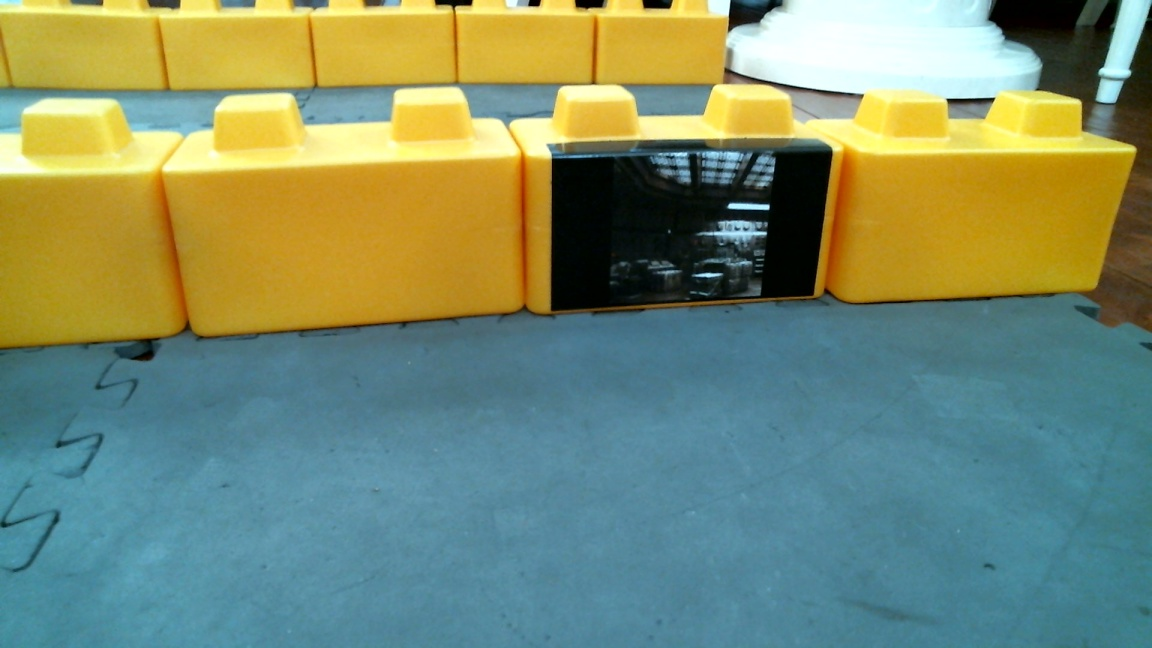skystone: (527, 76, 837, 325)
stone: (162, 94, 526, 318), (835, 82, 1133, 293), (1, 94, 180, 349), (1, 1, 172, 92), (160, 1, 310, 94), (306, 1, 454, 86), (454, 1, 587, 82), (595, 1, 723, 77)
